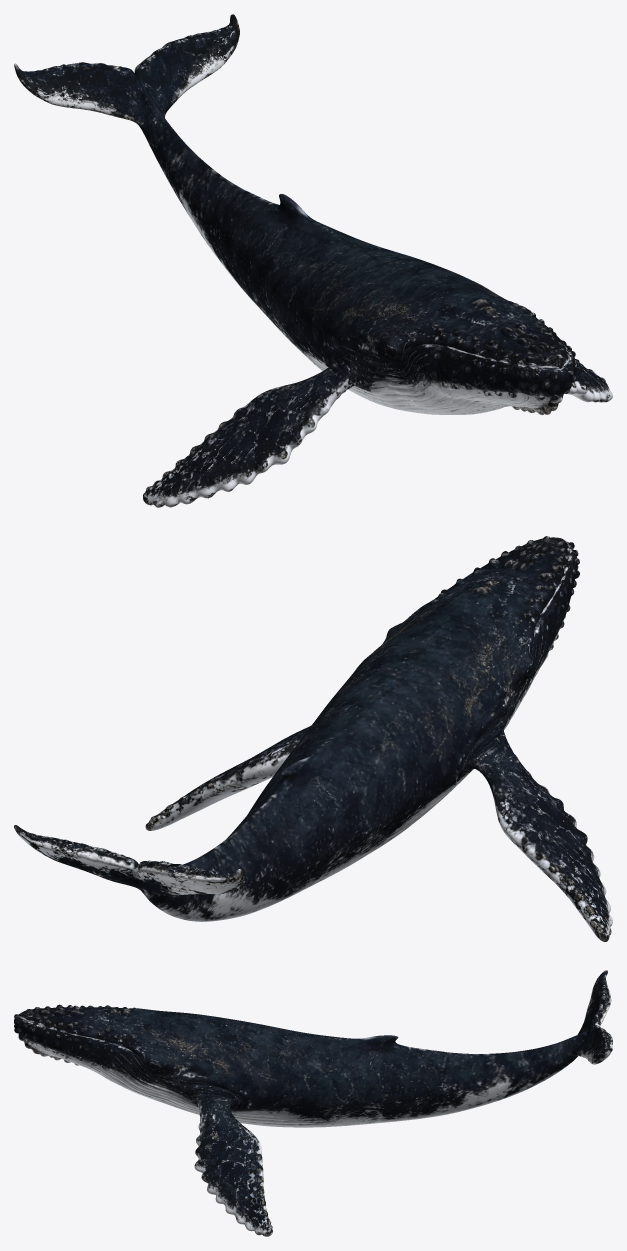
The model's file is humpback-whale.glb.
3 views of the same model, one above another, from view 1: azimuth 30°, elevation 25°; view 2: azimuth 150°, elevation 25°; view 3: azimuth 270°, elevation 25° (orthographic). The views are drawn at different scales.
Parts seen in each view (by area): view 1: humpback-whale; view 2: humpback-whale; view 3: humpback-whale.
Part boxes in pixels (x1=…): humpback-whale: x1=14, y1=14, x2=612, y2=507; humpback-whale: x1=14, y1=536, x2=612, y2=941; humpback-whale: x1=14, y1=970, x2=612, y2=1236.
Size of the model in its own units: 8.47 by 3.98 by 14.
Materials: 1 (1 with a texture image).
